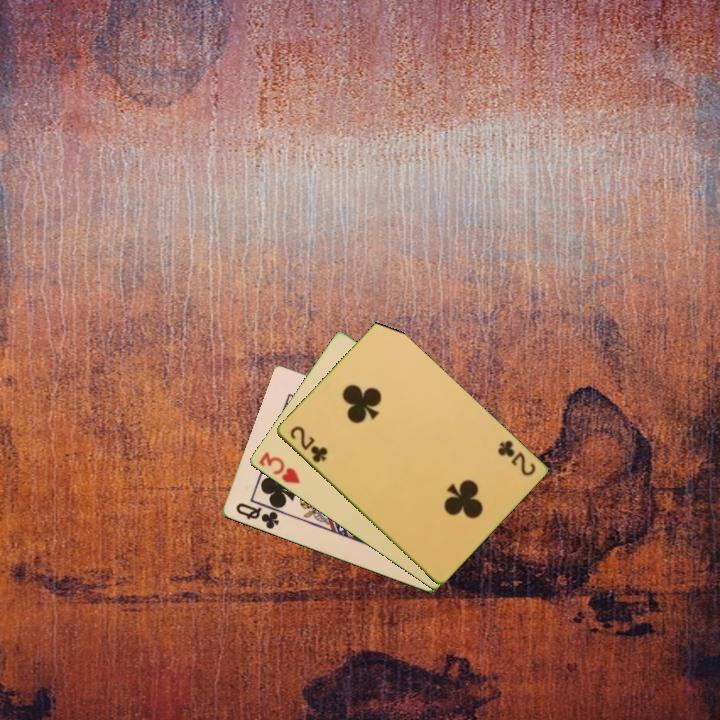2c: (286, 423, 330, 466), (493, 437, 538, 479)
3h: (255, 448, 303, 487)
Qc: (232, 498, 286, 532)
